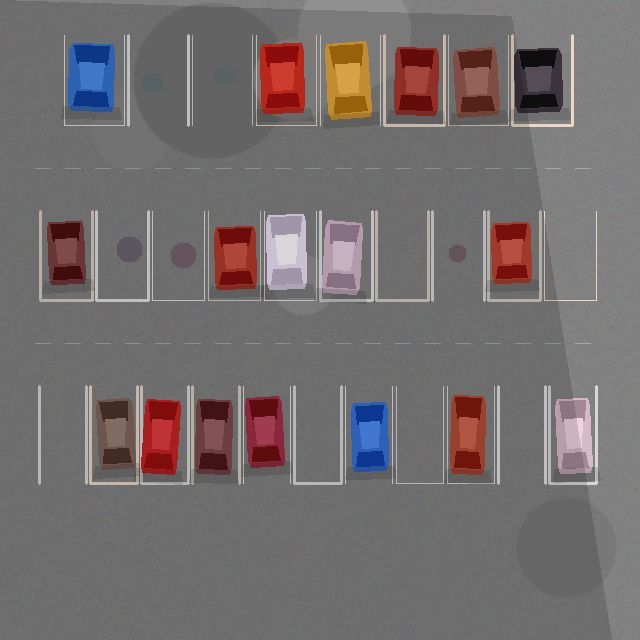space-empty: (128, 35, 188, 125), (192, 35, 252, 125), (96, 211, 148, 300), (152, 211, 204, 300), (376, 211, 428, 300), (432, 211, 484, 300), (544, 211, 596, 300), (39, 386, 86, 483), (294, 386, 341, 483), (396, 386, 443, 483), (498, 386, 545, 483)
space-occupied: (64, 35, 124, 125), (256, 35, 316, 125), (320, 35, 380, 125), (384, 35, 444, 125), (448, 35, 508, 125), (512, 35, 572, 125), (40, 211, 92, 300), (208, 211, 260, 300), (264, 211, 316, 300), (320, 211, 372, 300), (488, 211, 540, 300), (90, 386, 137, 483), (141, 386, 188, 483), (192, 386, 239, 483), (243, 386, 290, 483), (345, 386, 392, 483), (447, 386, 494, 483), (549, 386, 596, 483)
